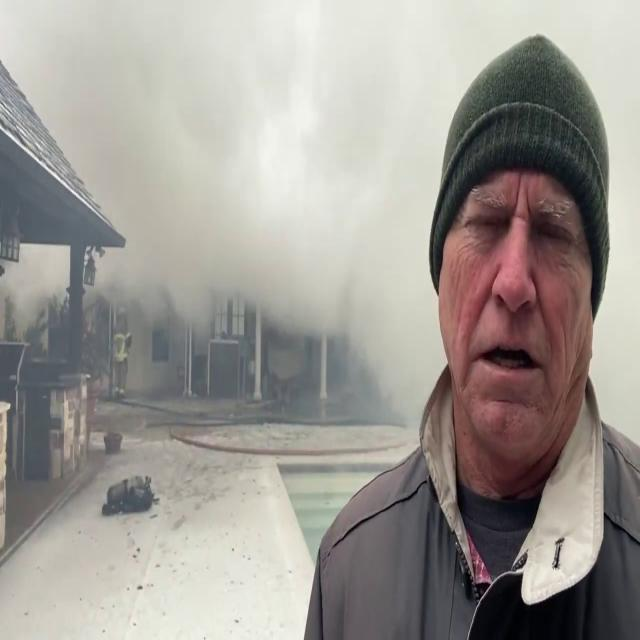Smoke: (7, 0, 460, 517)
